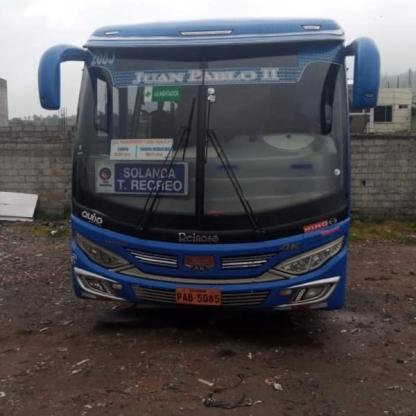Placa: (175, 286, 226, 309)
